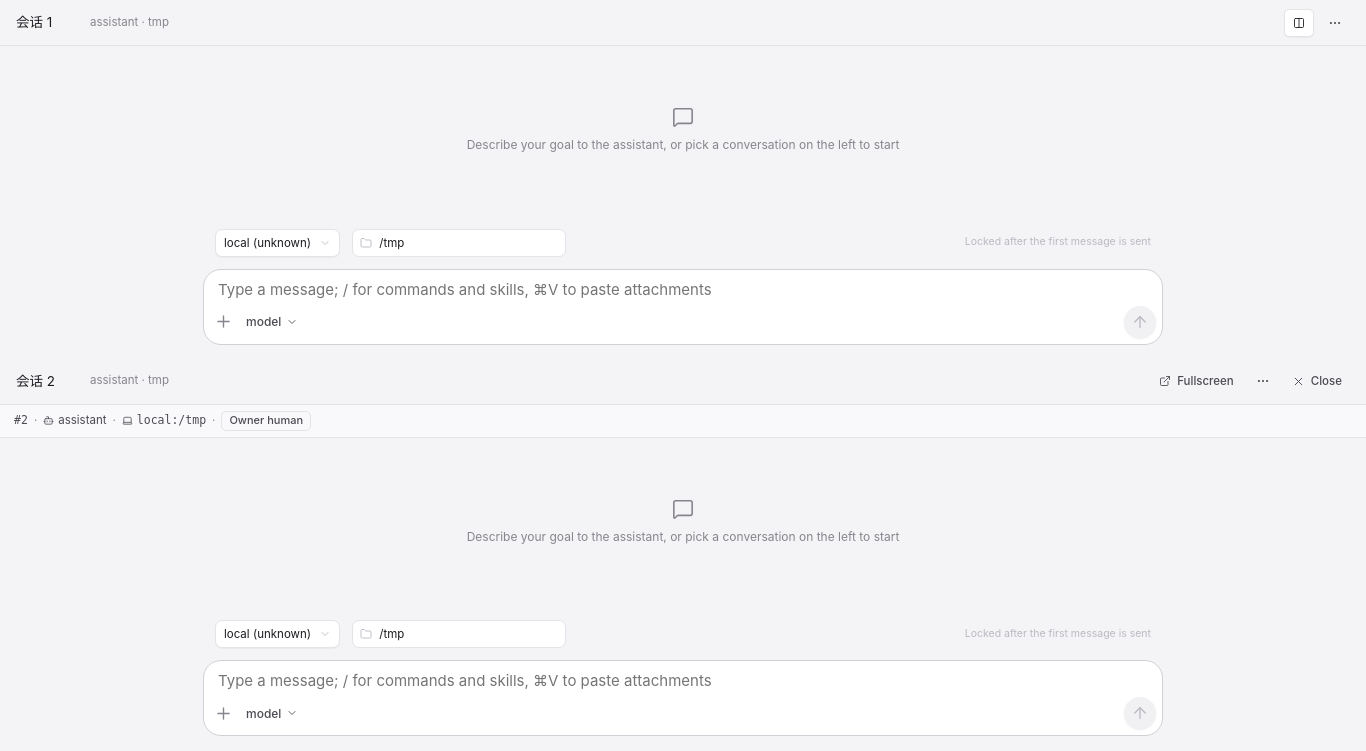
Test case: 归档抽屉会话：会话仍可查看，抽屉与主屏均不动
Press the mouse on the 2nd button named "More conversation actions": (1263, 381) x1=1248 y1=367 x2=1278 y2=395
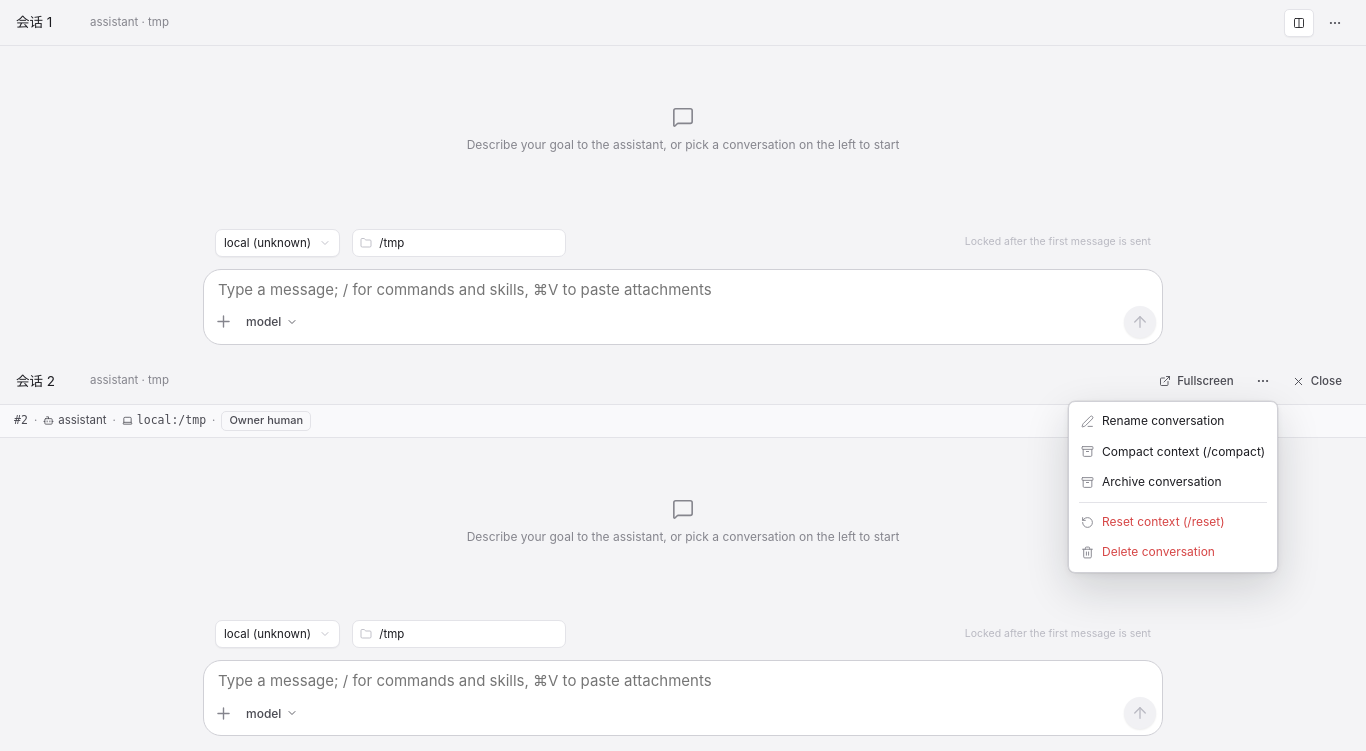
expect the menu item "Archive conversation" is shown: met
Click the menu item "Archive conversation": (1151, 482) x1=1081 y1=474 x2=1222 y2=489
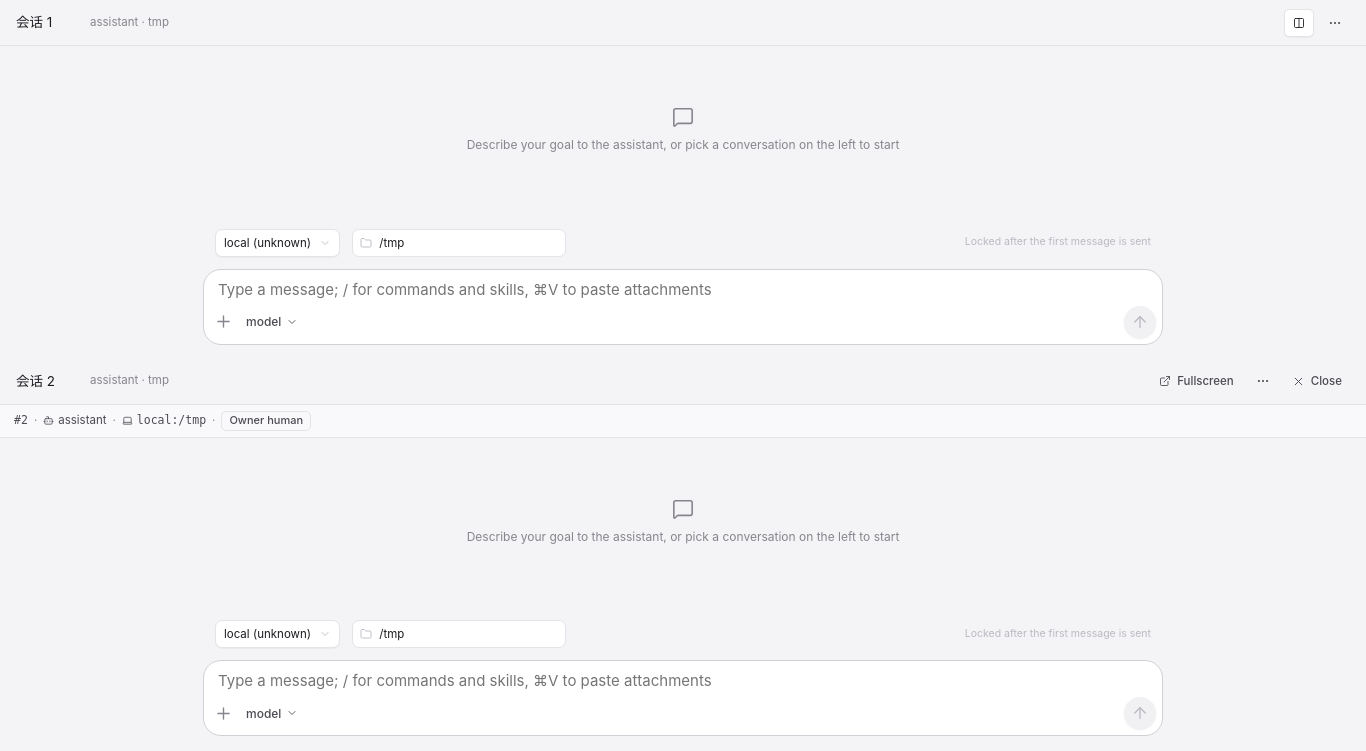
Press the mouse on the 2nd button named "More conversation actions": (1263, 381) x1=1248 y1=367 x2=1278 y2=395
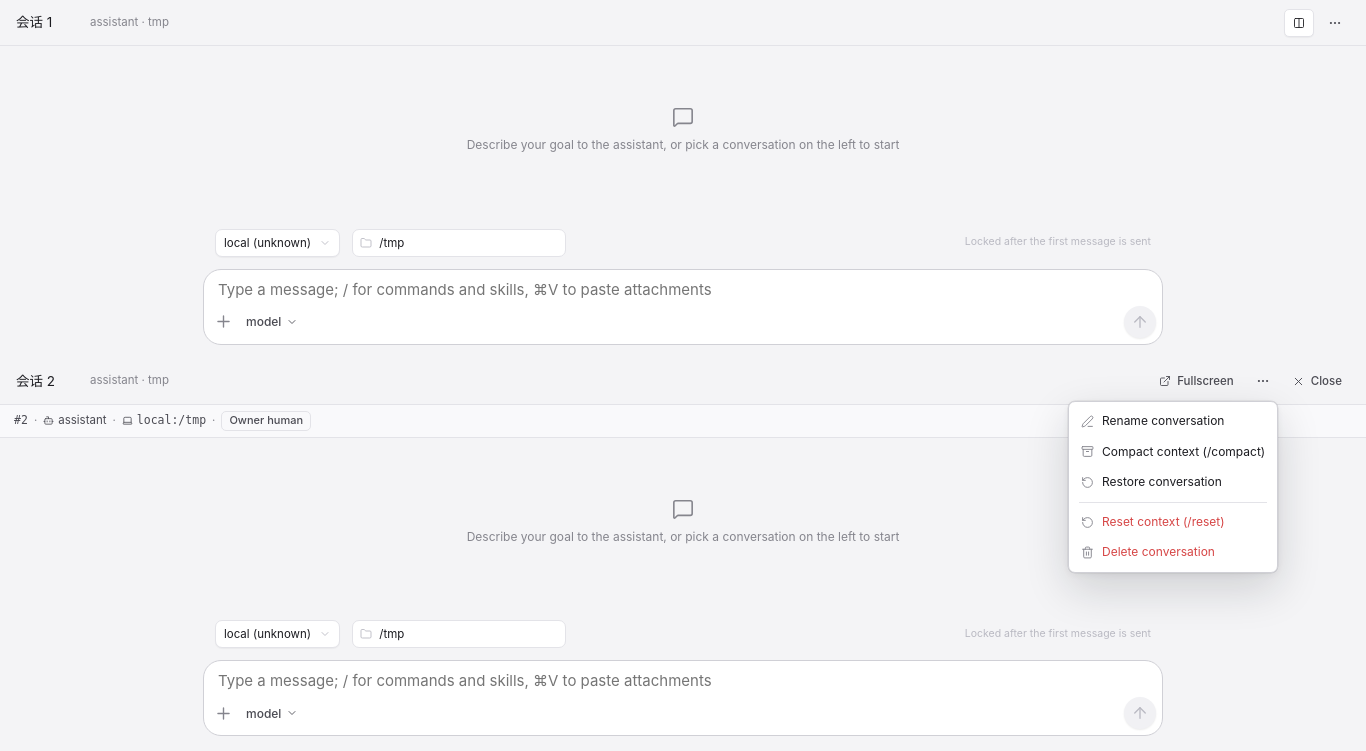
expect the menu item "Restore conversation" is shown: met, box x1=1081 y1=474 x2=1222 y2=489
